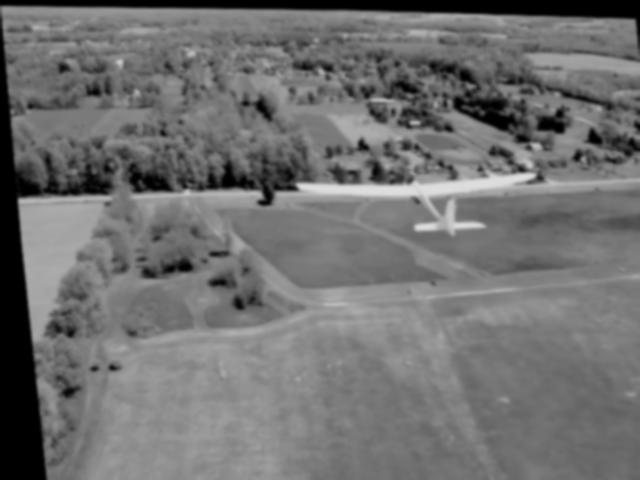hedef: (277, 151, 548, 249)
